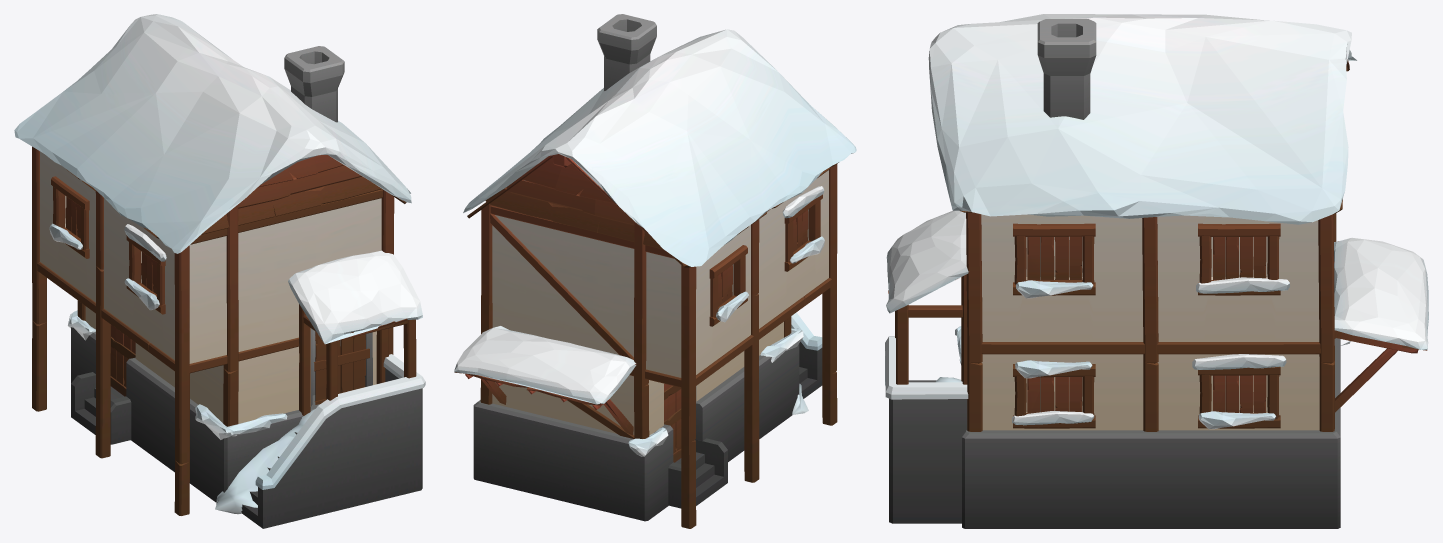
3 renders of one model, left to right at view 1: azimuth 30°, elevation 25°; view 2: azimuth 150°, elevation 25°; view 3: azimuth 270°, elevation 25°, orthographic. The views are drawn at different scales.
Visible parts, largest first — view 1: SnowyTownHouse1; view 2: SnowyTownHouse1; view 3: SnowyTownHouse1.
Part boxes in pixels (x1,y1,x2,y2): SnowyTownHouse1: [14, 14, 425, 528]; SnowyTownHouse1: [454, 14, 856, 528]; SnowyTownHouse1: [885, 14, 1428, 528].
Bounding box in the file's own units: 407 × 600 × 624.
1 material, 1 textured.
